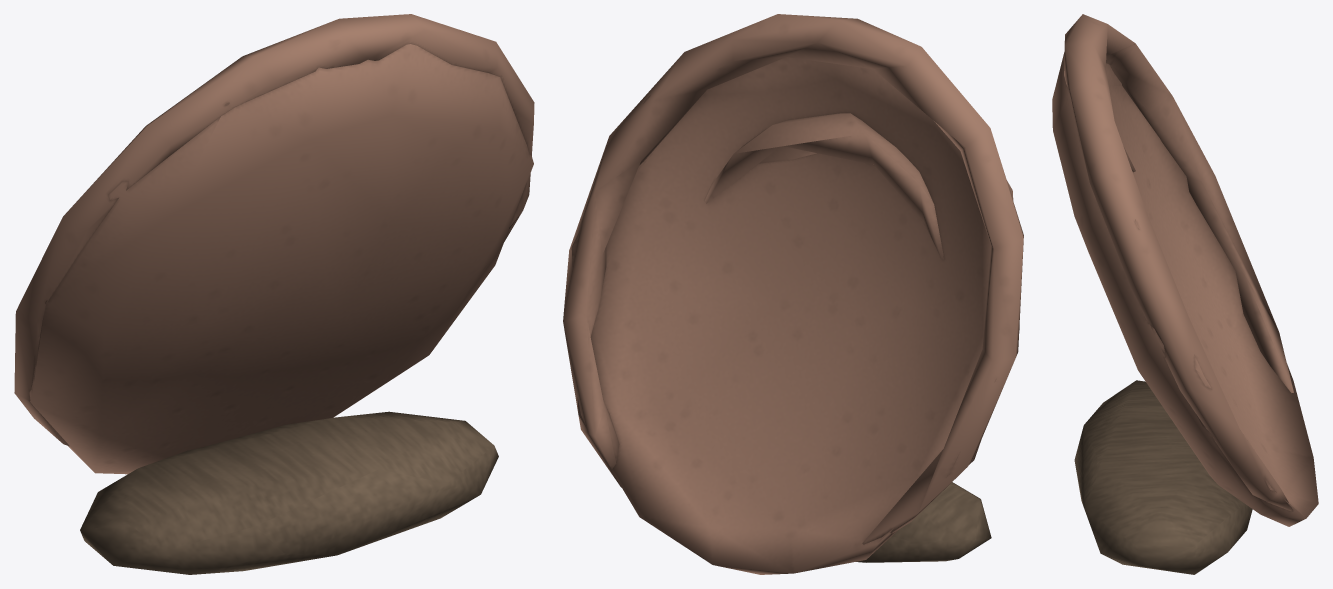
Rendered from cpart_ear_round.glb.
3 renders of one model, left to right at view 1: azimuth 30°, elevation 25°; view 2: azimuth 150°, elevation 25°; view 3: azimuth 270°, elevation 25°, orthographic. The views are drawn at different scales.
Parts seen in each view (by area): view 1: EarRound, Tuft; view 2: EarRound, Tuft; view 3: EarRound, Tuft.
Boxes of the visible parts, x1=… form: EarRound: x1=14, y1=14, x2=534, y2=474; Tuft: x1=80, y1=411, x2=498, y2=574; EarRound: x1=563, y1=14, x2=1023, y2=574; Tuft: x1=856, y1=482, x2=991, y2=562; EarRound: x1=1052, y1=14, x2=1318, y2=526; Tuft: x1=1074, y1=380, x2=1252, y2=574.
Size of the model in its own units: 0.0611 by 0.0632 by 0.0318.
Materials: 2 (2 with a texture image).
